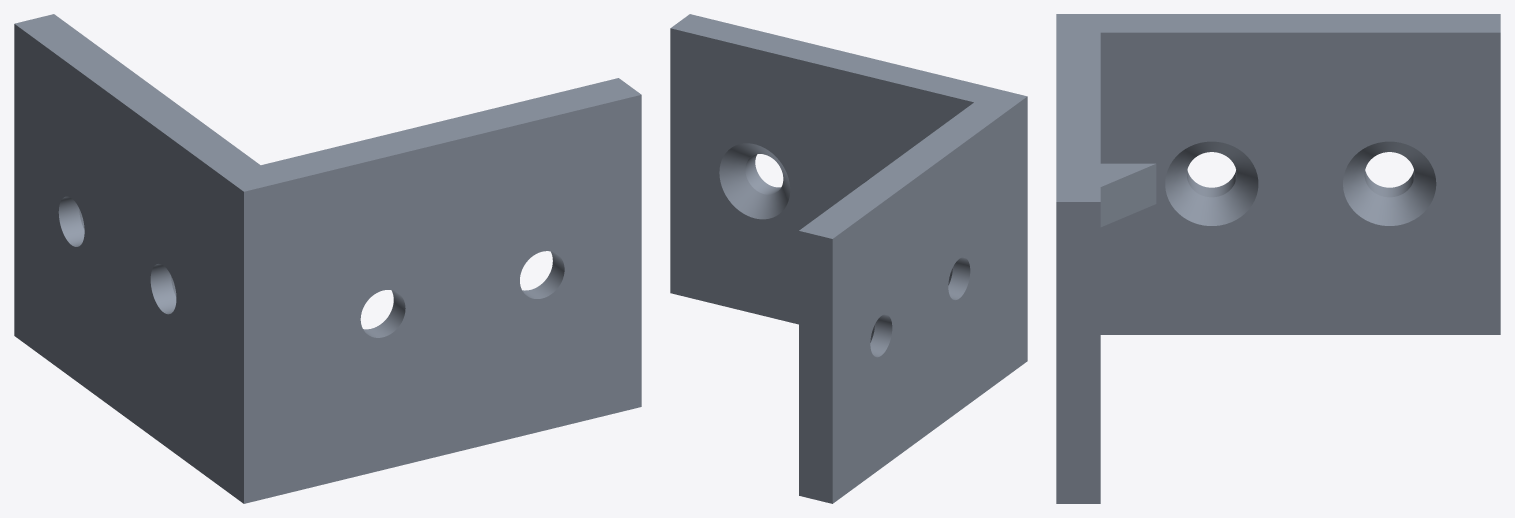
Rendered from step-3-preview-1.glb.
3 views of the same model, side by side, from view 1: azimuth 30°, elevation 25°; view 2: azimuth 150°, elevation 25°; view 3: azimuth 270°, elevation 25° (orthographic). The views are drawn at different scales.
Parts seen in each view (by area): view 1: preview_13, preview_14, preview_6, preview_18, preview_17, preview_16, preview_15; view 2: preview_14, preview_1, preview_6, preview_10, preview_8, preview_17, preview_18, preview_15; view 3: preview_2, preview_6, preview_7, preview_11, preview_12, preview_0, preview_4, preview_18, preview_17.
Boxes of the visible parts, x1,y1,x2,y2 form: preview_13: (244, 95, 641, 503); preview_14: (14, 24, 243, 503); preview_6: (14, 14, 641, 191); preview_18: (58, 196, 84, 246); preview_17: (150, 264, 176, 314); preview_16: (363, 290, 405, 337); preview_15: (522, 251, 564, 298); preview_14: (832, 96, 1027, 503); preview_1: (670, 28, 973, 324); preview_6: (671, 14, 1026, 238); preview_10: (799, 231, 832, 503); preview_8: (719, 143, 790, 219); preview_17: (948, 257, 970, 300); preview_18: (870, 314, 892, 357); preview_15: (745, 154, 780, 194); preview_2: (1100, 32, 1500, 334); preview_6: (1056, 14, 1500, 201); preview_7: (1056, 202, 1100, 503); preview_11: (1165, 141, 1258, 225); preview_12: (1343, 141, 1436, 225); preview_0: (1100, 164, 1156, 226); preview_4: (1100, 163, 1155, 186); preview_18: (1364, 170, 1414, 197); preview_17: (1187, 170, 1236, 197).
Bounding box in the file's own units: 0.04 × 0.03 × 0.04.
